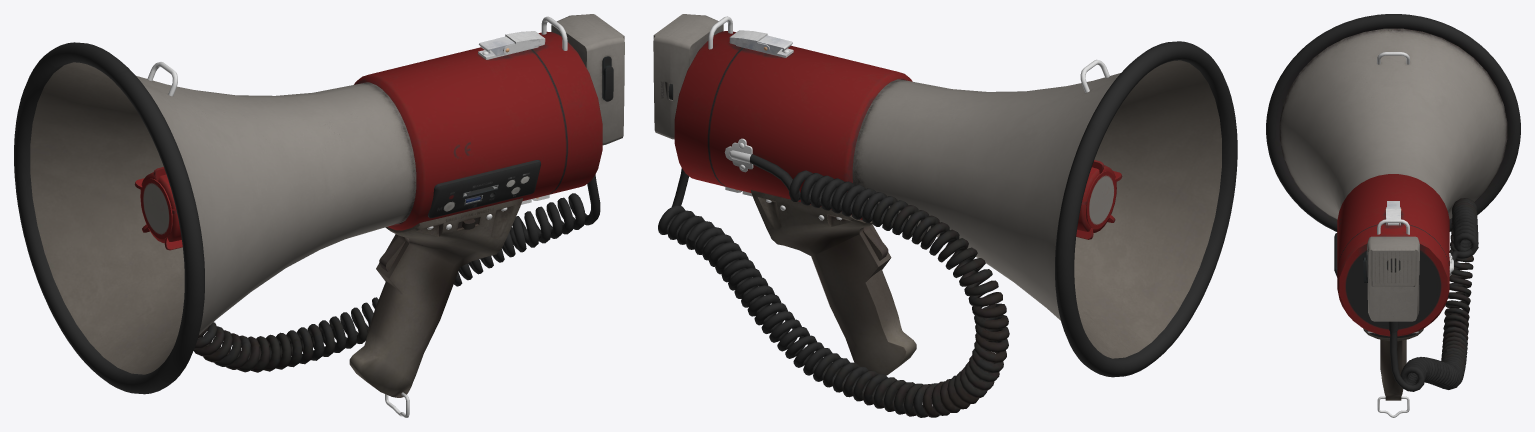
File: slack_megaphone.glb
3 renders of one model, left to right at view 1: azimuth 30°, elevation 25°; view 2: azimuth 150°, elevation 25°; view 3: azimuth 270°, elevation 25°, orthographic. The views are drawn at different scales.
Visible parts, largest first — view 1: Megaphone_01; view 2: Megaphone_01; view 3: Megaphone_01.
Part boxes in pixels (left/top/right/bottom): Megaphone_01: left=14, top=14, right=624, bottom=417; Megaphone_01: left=653, top=14, right=1237, bottom=417; Megaphone_01: left=1266, top=14, right=1520, bottom=417.
Bounding box in the file's own units: 0.3707 × 0.3001 × 0.2285.
1 material, 1 textured.
